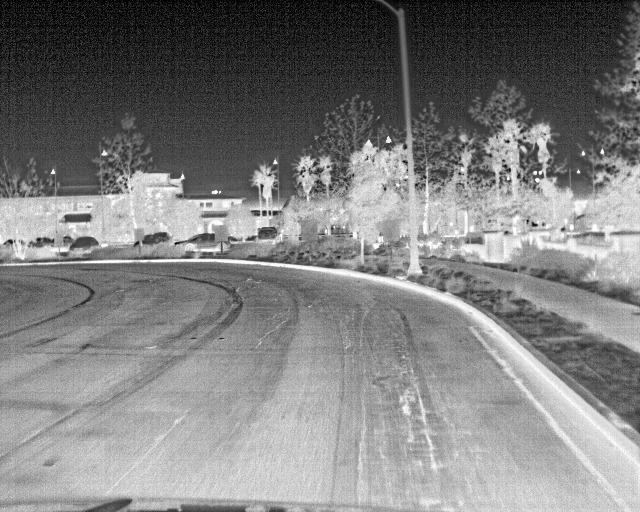car: (174, 232, 220, 252), (68, 235, 100, 253), (256, 226, 280, 243)
